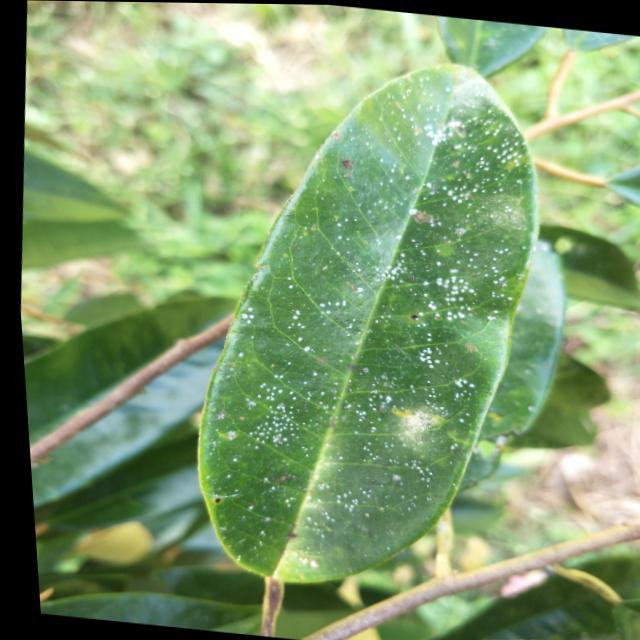Leaf Spot: (219, 369, 445, 531), (264, 255, 493, 383), (376, 94, 522, 250)
